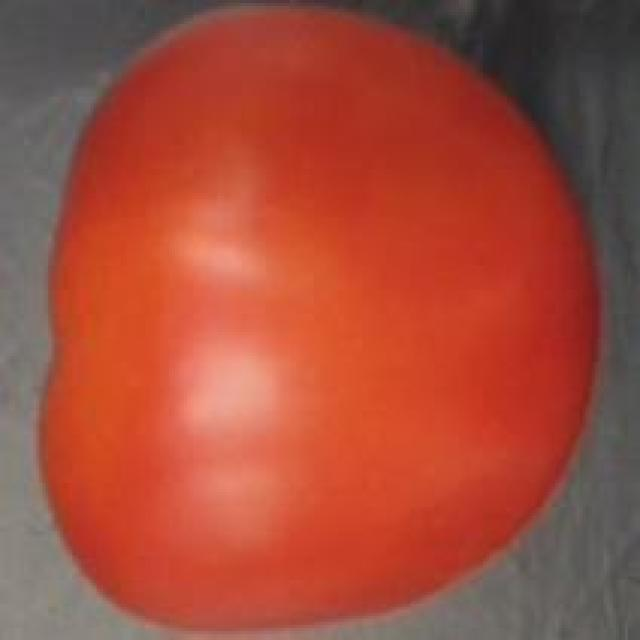ripe tomato: (27, 0, 616, 640)
